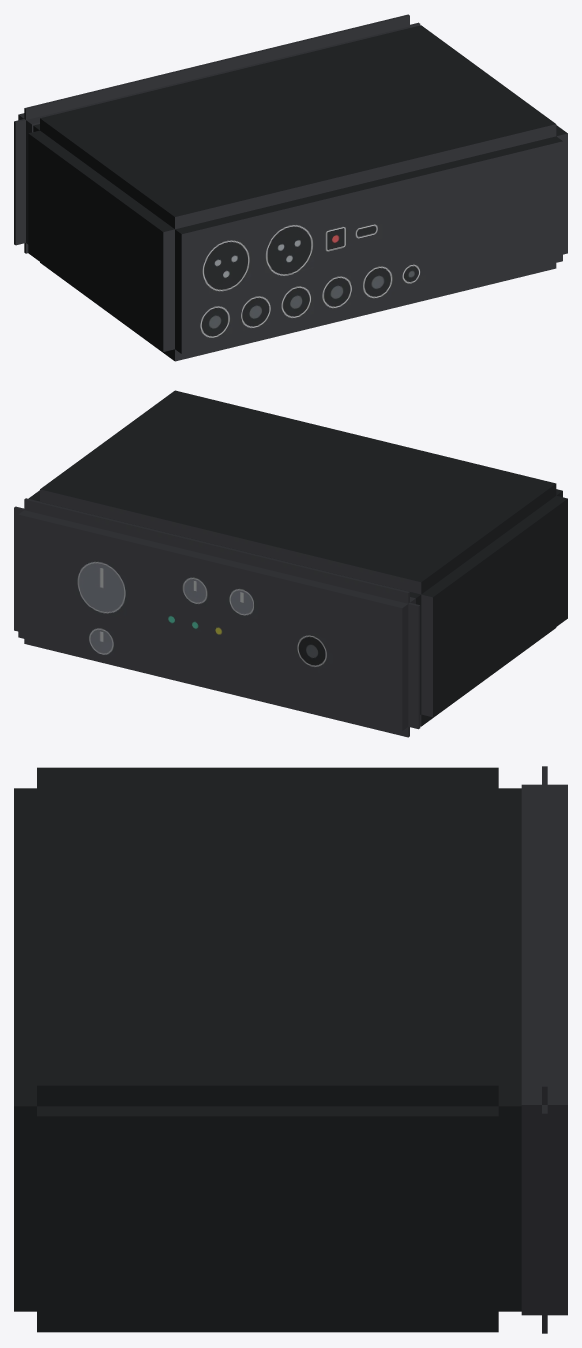
File: audient-id14-mkii.glb
The picture shows the model from 3 angles, top to bottom: view 1: azimuth 30°, elevation 25°; view 2: azimuth 150°, elevation 25°; view 3: azimuth 270°, elevation 25°; orthographic projection. The views are drawn at different scales.
Parts seen in each view (by area): view 1: audient-id14-mkii-body; view 2: audient-id14-mkii-body; view 3: audient-id14-mkii-body.
Part boxes in pixels (x1,y1,x2,y2): audient-id14-mkii-body: (14,14,567,361); audient-id14-mkii-body: (14,390,567,737); audient-id14-mkii-body: (14,766,567,1333).
Bounding box in the file's own units: 0.173 × 0.062 × 0.12.
Materials: 1 (1 with a texture image).
